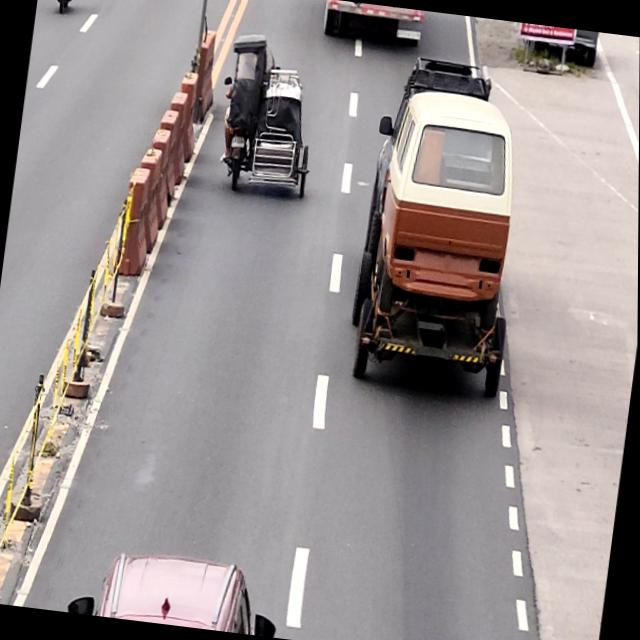Car: (368, 85, 528, 335), (65, 544, 284, 637)
License-Plate: (230, 135, 246, 150)
Tricycle: (210, 32, 327, 206)
